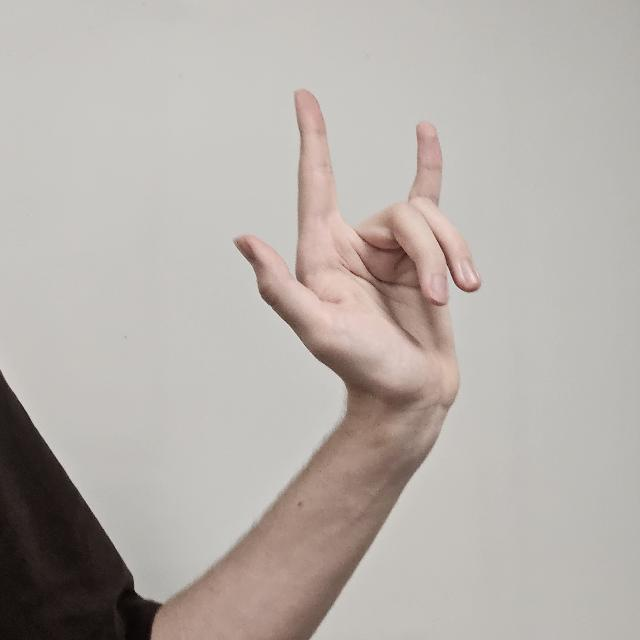Cima: (232, 88, 480, 460)
